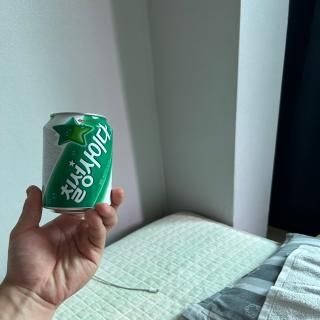cocacola: (40, 111, 114, 214)
